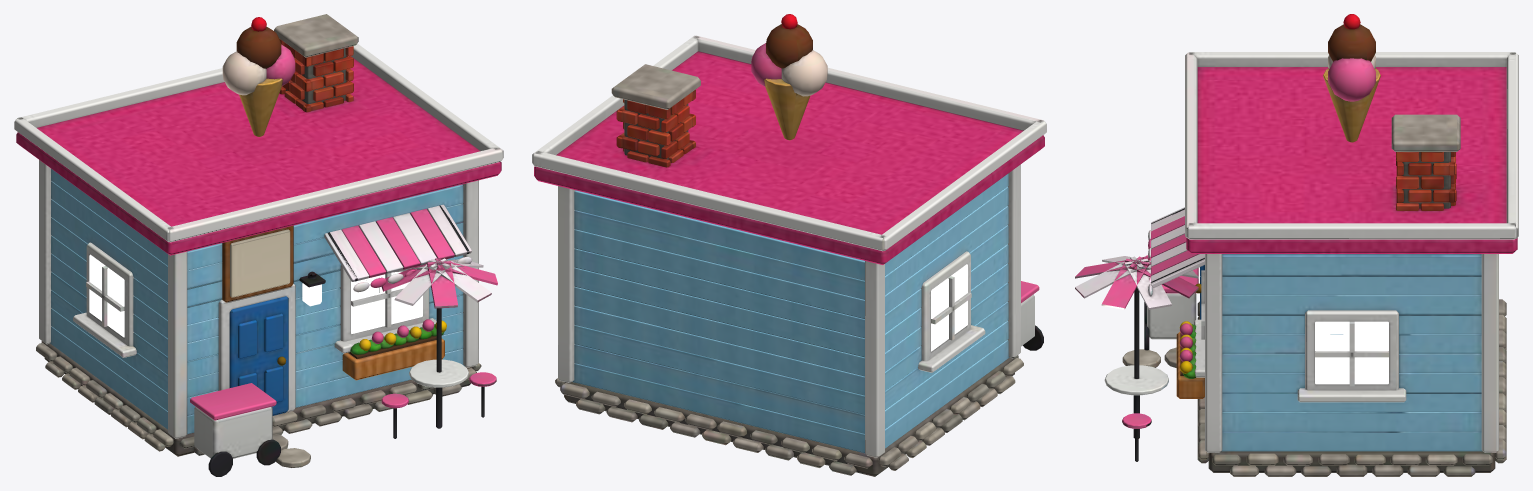
File: ice_cream.glb
3 renders of one model, left to right at view 1: azimuth 30°, elevation 25°; view 2: azimuth 150°, elevation 25°; view 3: azimuth 270°, elevation 25°, orthographic. The views are drawn at different scales.
Parts seen in each view (by area): view 1: ice_cream; view 2: ice_cream; view 3: ice_cream.
Part boxes in pixels (x1,y1,x2,y2): ice_cream: (14, 14, 503, 476); ice_cream: (532, 14, 1046, 476); ice_cream: (1075, 14, 1518, 476).
Bounding box in the file's own units: 1.69 × 1.71 × 1.8.
Materials: 1 (1 with a texture image).
